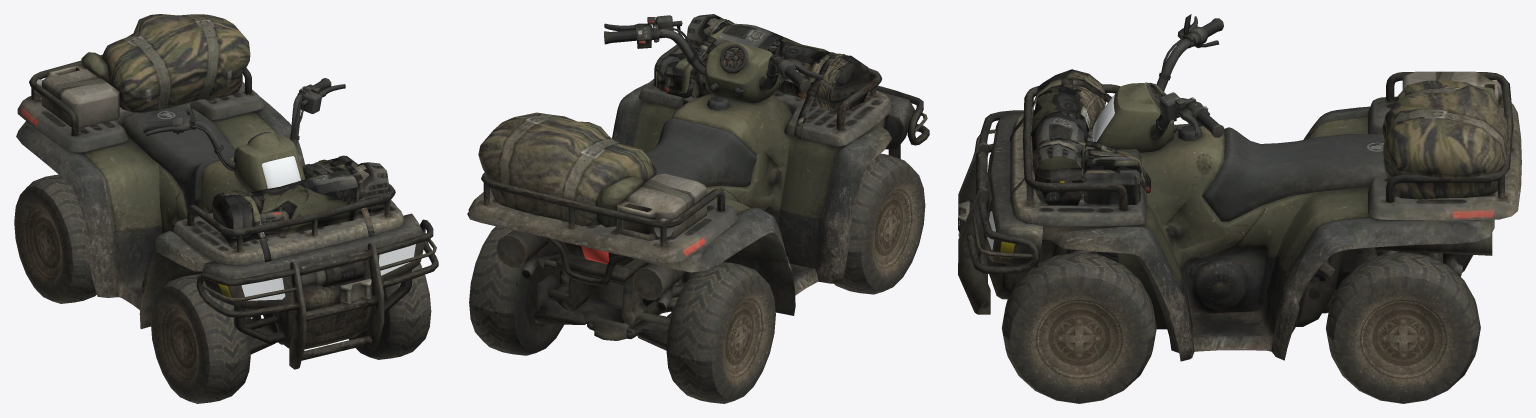
Rendered from quadriciclo.glb.
3 renders of one model, left to right at view 1: azimuth 30°, elevation 25°; view 2: azimuth 150°, elevation 25°; view 3: azimuth 270°, elevation 25°, orthographic. The views are drawn at different scales.
Parts seen in each view (by area): view 1: body, wheel_FR, wheel_RR, wheel_FL; view 2: body, wheel_RR, wheel_FR, wheel_RL; view 3: body, wheel_RL, wheel_FL.
Boxes of the visible parts, left/top/right/bottom form: body: left=16, top=14, right=438, bottom=369; wheel_FR: left=150, top=274, right=250, bottom=403; wheel_RR: left=14, top=174, right=96, bottom=303; wheel_FL: left=349, top=263, right=431, bottom=359; body: left=467, top=14, right=929, bottom=350; wheel_RR: left=666, top=262, right=775, bottom=403; wheel_FR: left=834, top=153, right=925, bottom=294; wheel_RL: left=469, top=226, right=568, bottom=355; body: left=958, top=14, right=1521, bottom=361; wheel_RL: left=1326, top=252, right=1480, bottom=403; wheel_FL: left=1001, top=252, right=1156, bottom=403.
Size of the model in its own units: 1.29 by 1.35 by 2.31.
Materials: 3 (1 with a texture image).
